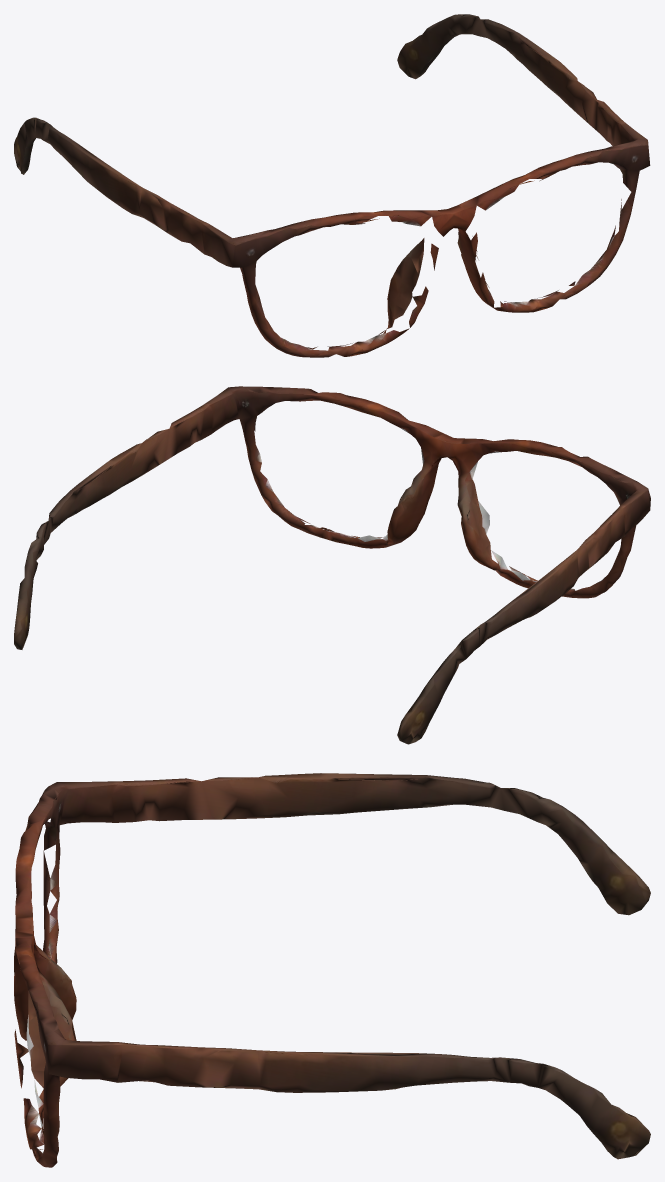
The model's file is head_accessory__0_058-optimized.glb.
3 views of the same model, one above another, from view 1: azimuth 30°, elevation 25°; view 2: azimuth 150°, elevation 25°; view 3: azimuth 270°, elevation 25° (orthographic). The views are drawn at different scales.
Parts seen in each view (by area): view 1: geometry_0_058; view 2: geometry_0_058; view 3: geometry_0_058.
Part boxes in pixels (x1=…): geometry_0_058: x1=14, y1=14, x2=650, y2=357; geometry_0_058: x1=14, y1=386, x2=650, y2=744; geometry_0_058: x1=14, y1=773, x2=650, y2=1167.
Bounding box in the file's own units: 0.7778 × 0.2361 × 0.7414.
1 material, 1 textured.
